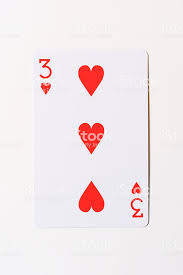two of hearts: (33, 51, 148, 226)
